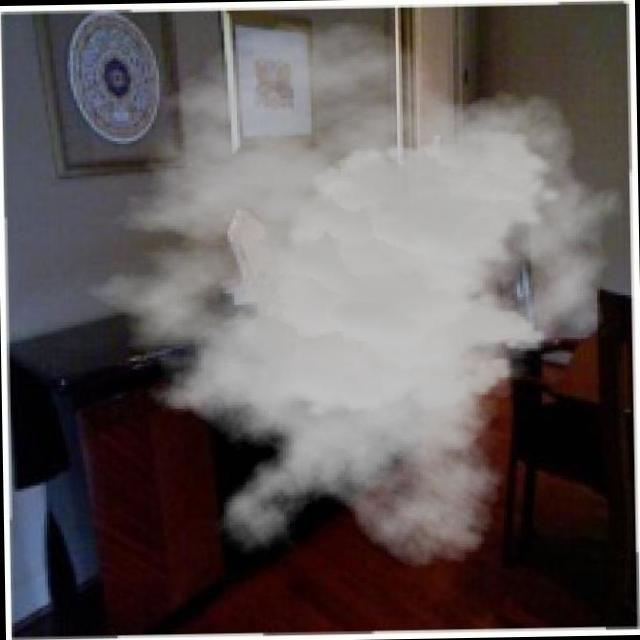Smoke: (58, 15, 630, 575)
